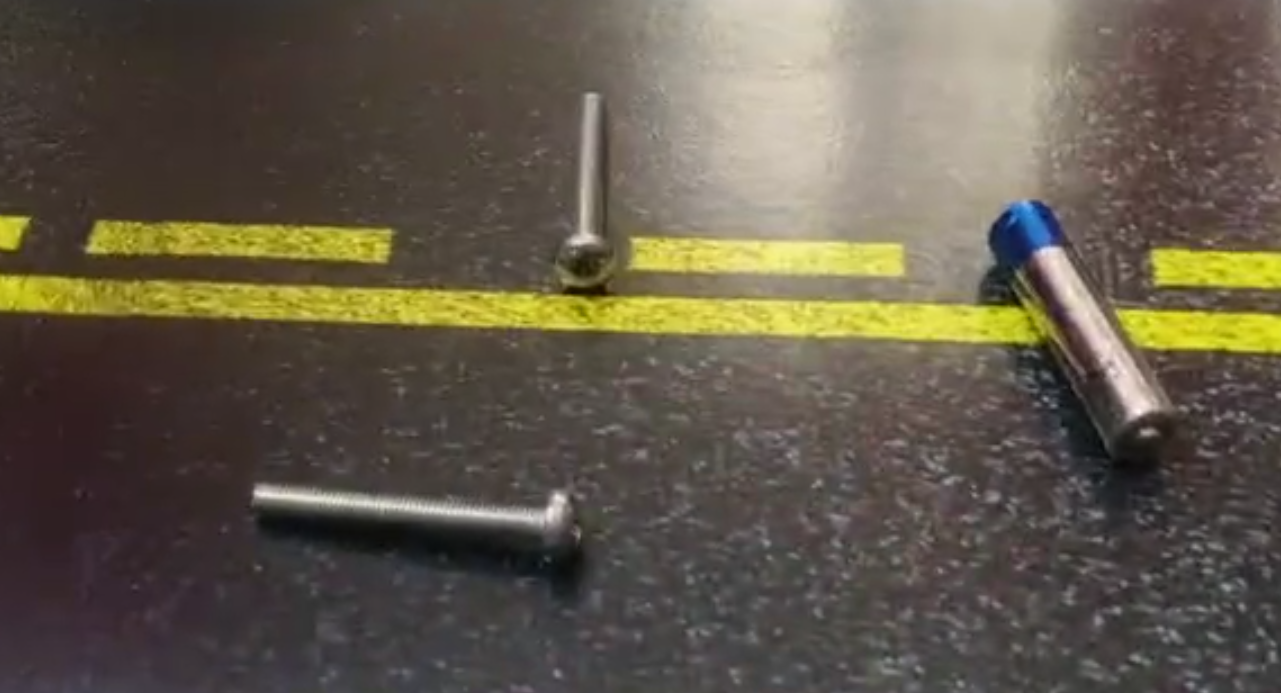metal: (979, 189, 1186, 470), (233, 448, 600, 577), (554, 77, 626, 314)
